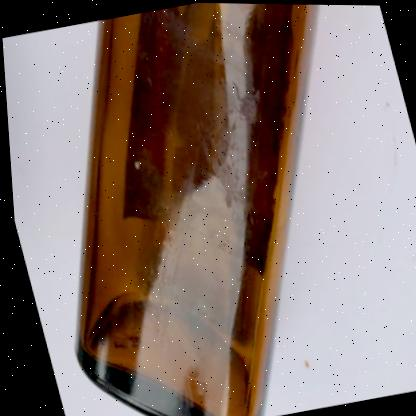Glass: (68, 2, 316, 416)
